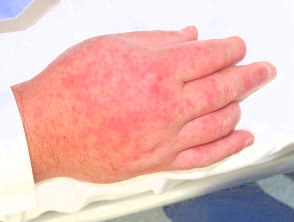SJS-TEN: (9, 16, 285, 194)
